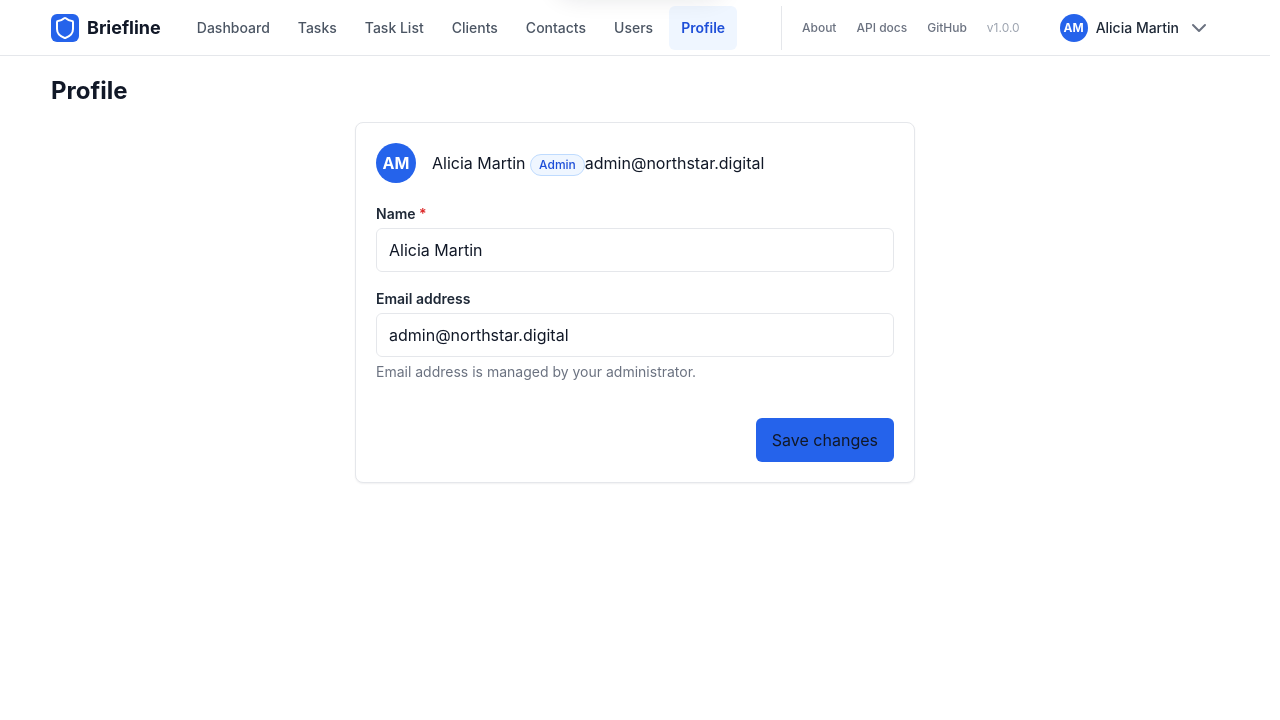
it: Profile › updates the name and reflects it in the session (header + announcement)
This screenshot has width=1280, height=720.
Expected: the heading "Profile" is shown, [51,76,128,106]
Step 1. Replace the text in the field labelled "Name *" with "Alicia Martin Jr." → coordinates (635, 250), box [376,228,894,272]
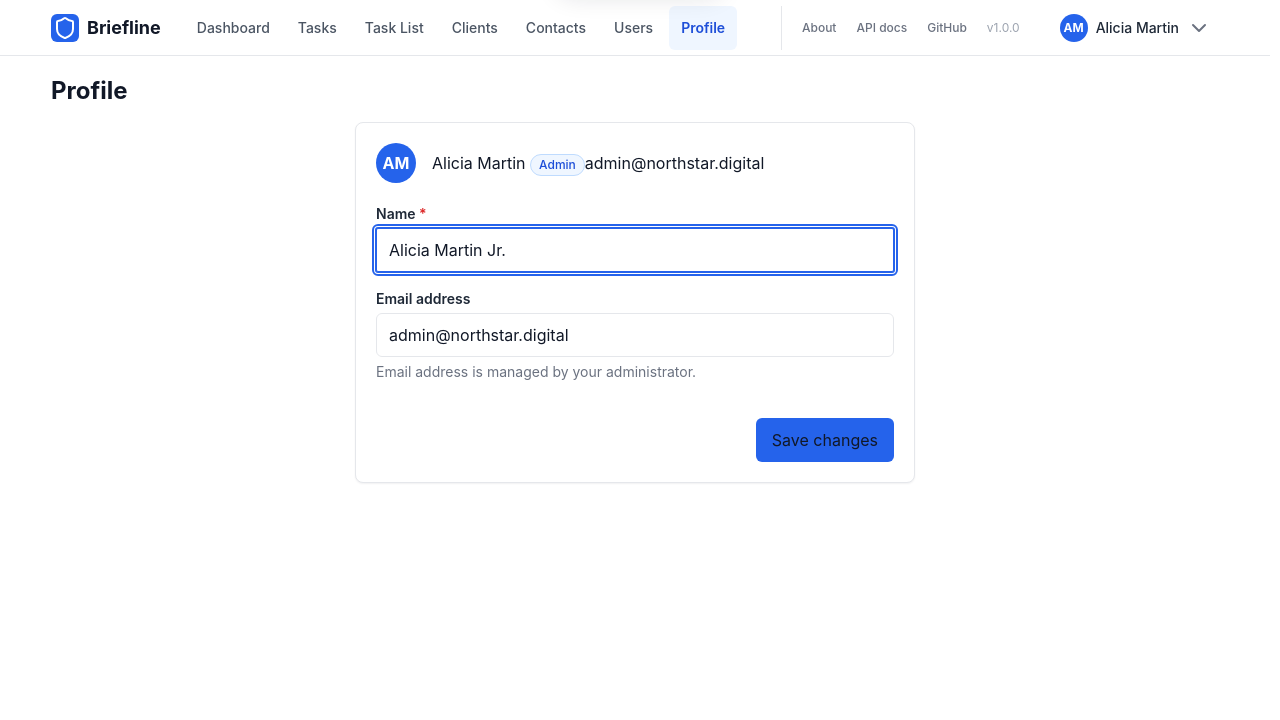
Step 2. Click the button "Save changes" → coordinates (825, 440), box [756,418,894,462]
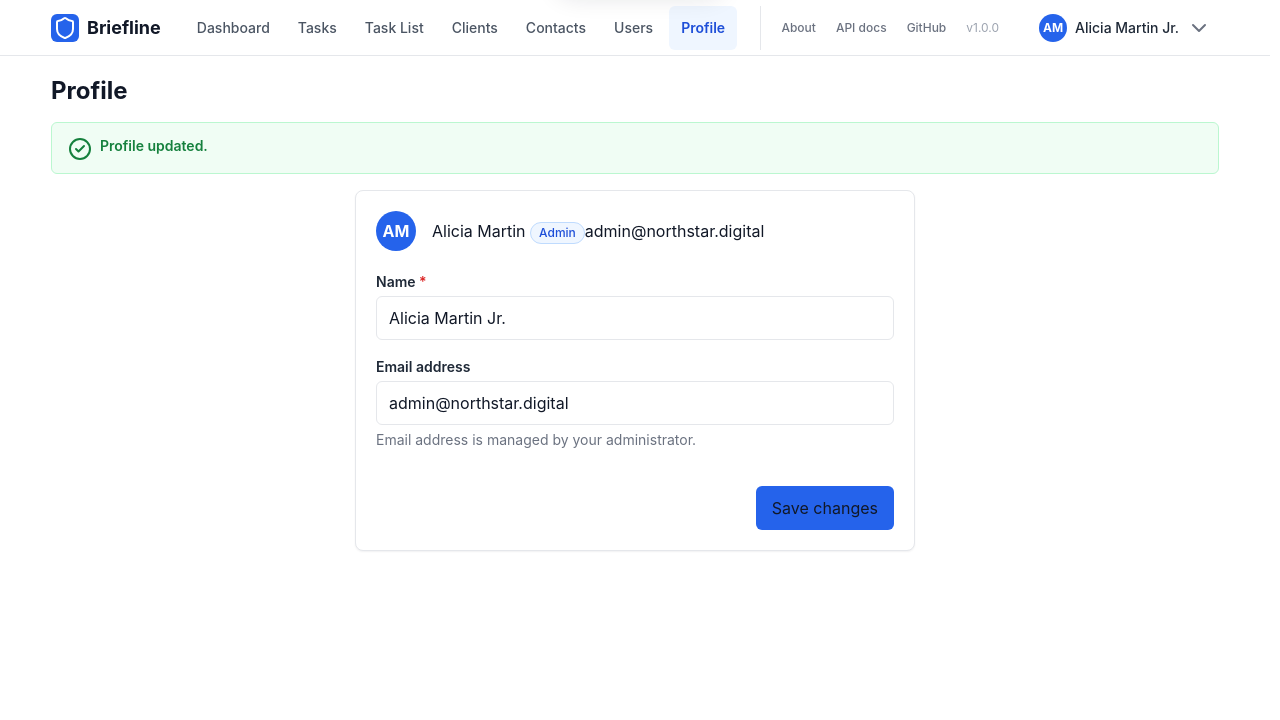
Now the text "Profile updated." is shown, box [100,135,208,156]
Now the text "Alicia Martin Jr." is shown, box [1075,17,1179,38]
